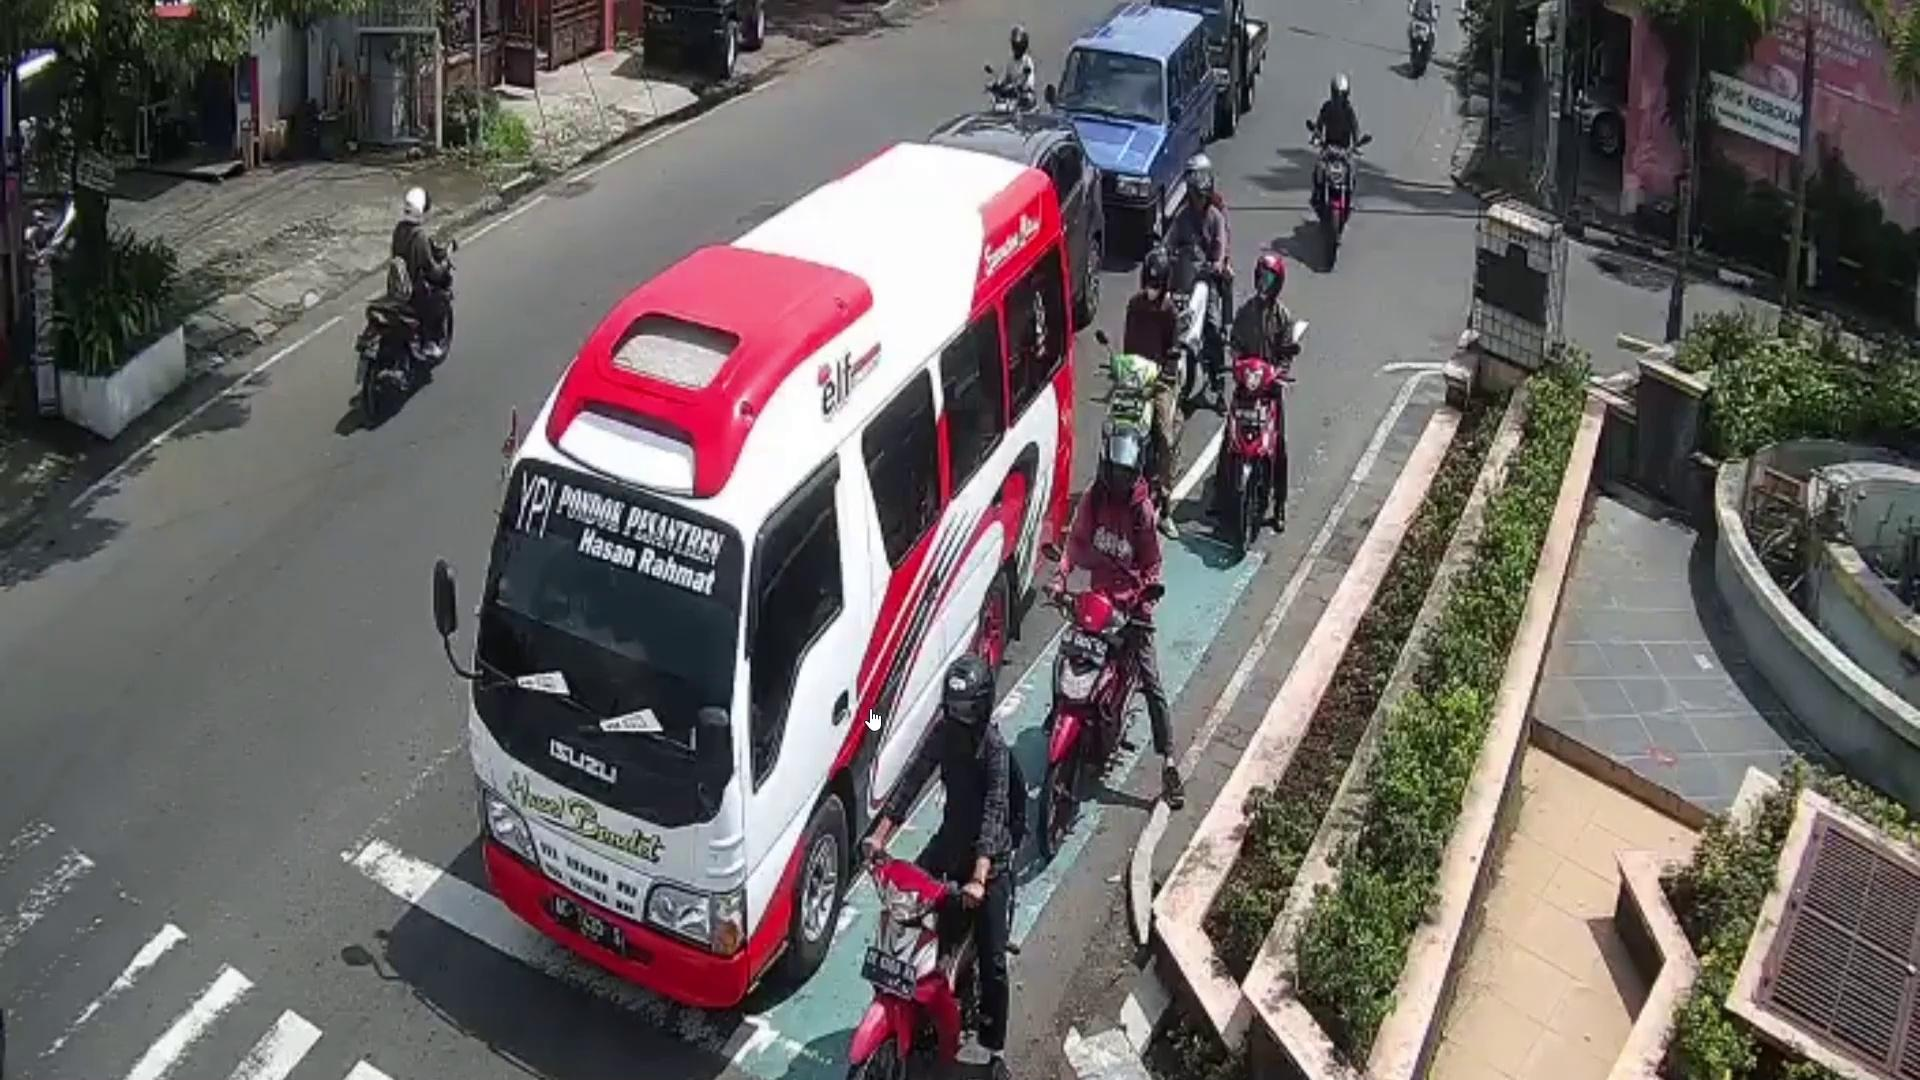bus: (471, 138, 1073, 1002)
car: (1052, 0, 1221, 244), (938, 105, 1110, 310), (1195, 0, 1273, 116)
motorbike: (856, 847, 997, 1080), (1047, 585, 1138, 848), (353, 233, 465, 423), (1089, 353, 1170, 526), (1228, 365, 1280, 555), (1315, 145, 1354, 270), (1407, 8, 1437, 83)
